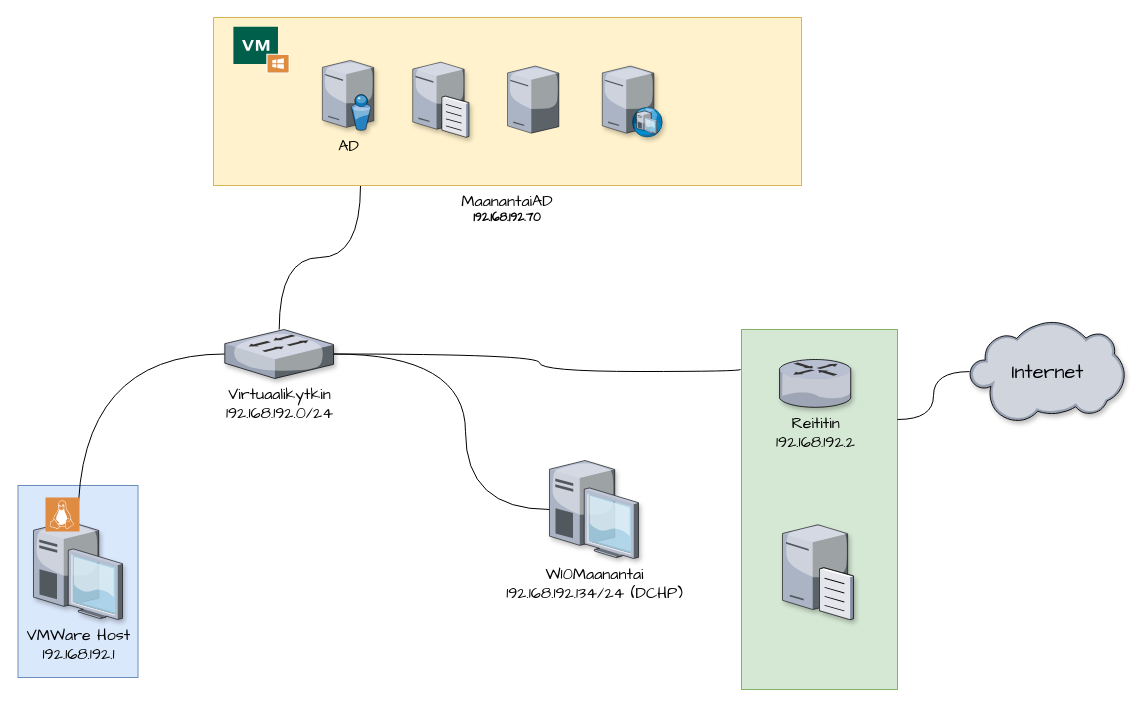
Some shapes in this 1147 by 707 pixel diagram are drawn without their labels. Each missing label, with the centre of its shape:
DHCP: the point at 633,103
DNS: the point at 441,100
Tiedostopalvelin: the point at 532,99
VMWare DNS 192.168.192.2: the point at 818,572
